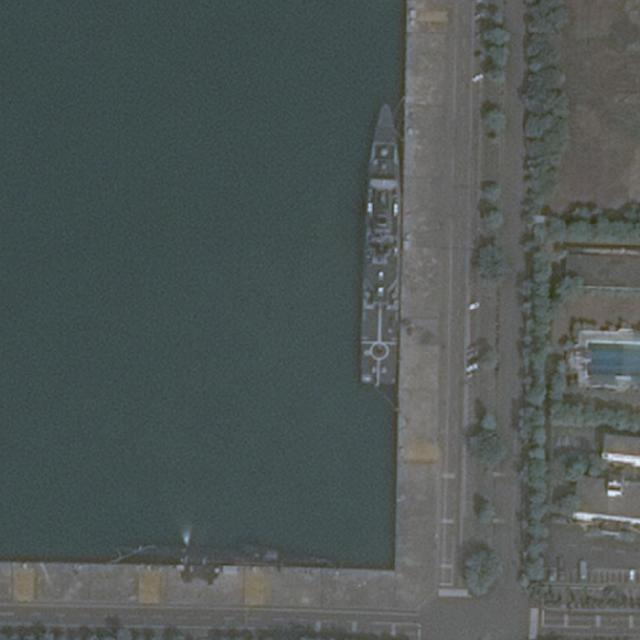Frigate: (361, 105, 403, 385)
Submarine: (114, 539, 331, 569)
